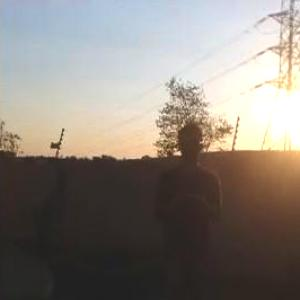follow: (149, 116, 225, 299)
